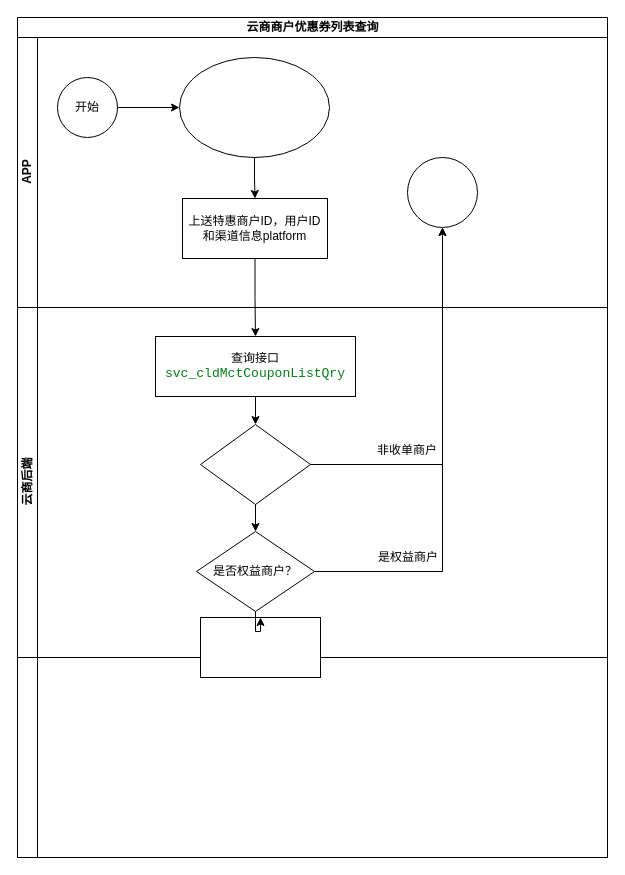
The diagram is 625 pixels wide and 875 high, and some of its shapes have lost their labels. Each missing label, with the box of its shape:
云商数据库: (16, 656, 608, 858)
是否收单商户？: (200, 424, 310, 504)
用户进入APP或小程序的商户页面查看优惠券: (178, 56, 330, 158)
结束: (406, 156, 478, 228)
